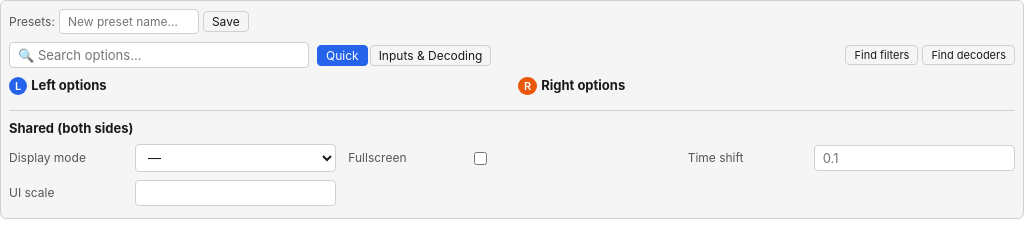
it: OptionsForm › search query replaces columns with flat results
The image size is (1024, 236).
Type "decoder" into the field with placeholder "🔍 Search options…" at coordinates (159, 55), box top-left (9, 42), bottom-right (309, 68)
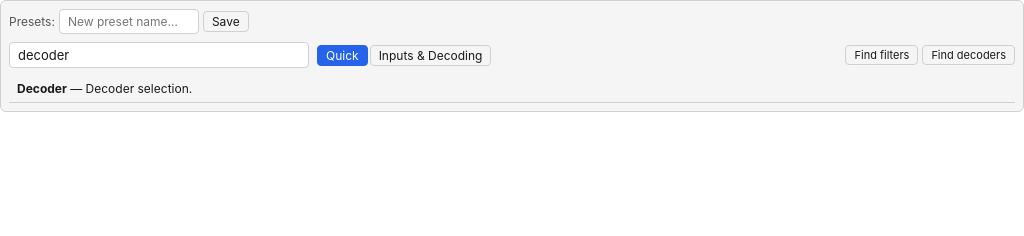
Expected: the element with class "search-result" is shown, top-left (9, 76), bottom-right (1015, 103)
Expected: the element with class "columns" is gone
Expected: the element with class "search-result" shows "Decoder", top-left (17, 81), bottom-right (67, 96)
